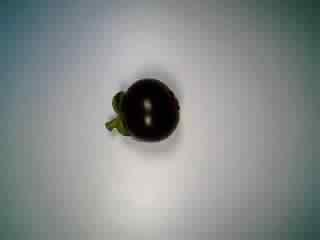mangosteen: (103, 74, 183, 143)
